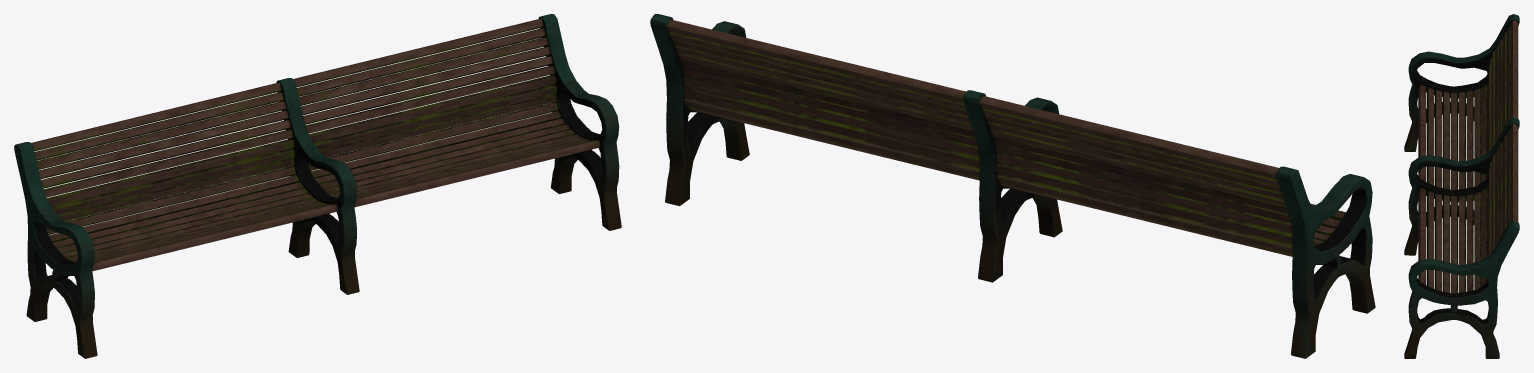
The model's file is park_bench.glb.
3 views of the same model, side by side, from view 1: azimuth 30°, elevation 25°; view 2: azimuth 150°, elevation 25°; view 3: azimuth 270°, elevation 25° (orthographic). The views are drawn at different scales.
Parts seen in each view (by area): view 1: mesh; view 2: mesh; view 3: mesh.
Part boxes in pixels (bbox=[...]): mesh: bbox=[14, 14, 621, 358]; mesh: bbox=[650, 14, 1375, 358]; mesh: bbox=[1404, 14, 1519, 358].
Bounding box in the file's own units: 3.17 × 0.9299 × 0.7273.
Materials: 1 (1 with a texture image).
